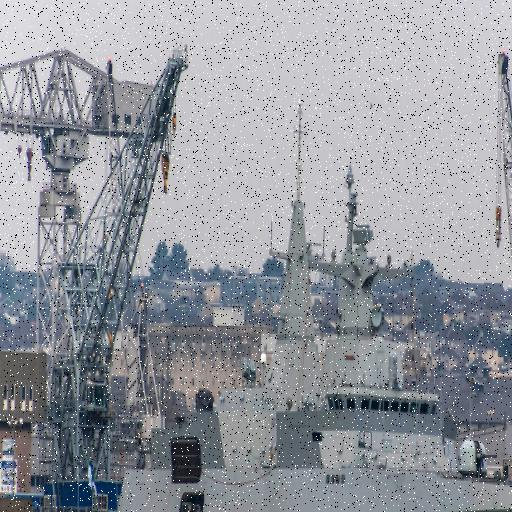Fragata: (31, 163, 512, 512)
